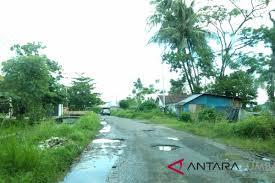Pothole: (204, 146, 275, 183), (94, 112, 118, 138), (141, 143, 185, 156), (138, 120, 166, 135), (84, 135, 126, 145), (167, 131, 183, 144)
